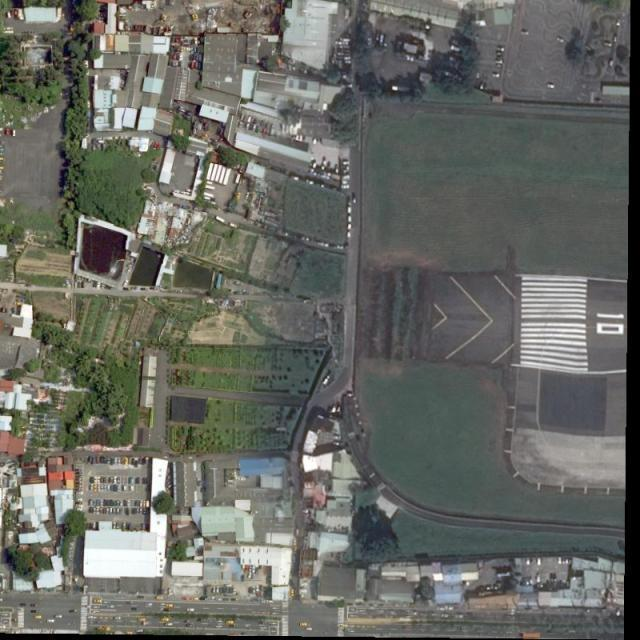vehicle: (523, 632, 540, 638), (556, 36, 565, 43), (127, 267, 134, 274), (546, 83, 554, 89), (603, 42, 612, 47), (613, 34, 618, 43), (124, 280, 130, 287), (236, 192, 241, 200), (6, 10, 11, 18), (290, 589, 294, 597), (520, 32, 528, 36), (495, 60, 503, 64), (617, 18, 621, 26), (107, 605, 115, 609), (4, 27, 14, 30), (293, 538, 297, 545), (165, 622, 172, 626), (114, 484, 118, 491), (610, 59, 614, 66), (497, 48, 504, 52), (131, 606, 138, 610), (130, 477, 134, 484), (70, 609, 77, 613), (55, 614, 62, 618), (4, 30, 13, 33), (94, 599, 100, 603), (166, 604, 174, 607), (14, 302, 22, 305), (137, 508, 141, 514), (110, 484, 114, 490), (493, 74, 499, 78), (186, 624, 194, 627), (146, 602, 152, 606), (260, 621, 266, 625), (106, 508, 110, 514), (89, 508, 93, 514), (93, 508, 97, 514), (76, 498, 82, 502), (34, 616, 41, 619), (138, 618, 145, 621), (187, 609, 194, 612), (300, 623, 307, 626), (162, 618, 169, 621), (91, 476, 94, 483), (76, 475, 83, 478), (111, 458, 114, 465), (108, 458, 111, 465), (180, 54, 183, 61), (87, 616, 94, 619), (137, 630, 144, 633), (138, 596, 145, 599), (32, 610, 39, 613), (100, 499, 103, 506), (117, 499, 120, 506), (76, 492, 83, 495), (238, 477, 245, 480), (94, 485, 98, 490), (90, 485, 94, 490), (101, 485, 105, 490), (110, 477, 114, 482), (6, 129, 9, 135), (114, 477, 117, 483), (104, 484, 107, 490), (126, 508, 129, 514), (76, 478, 82, 481), (115, 457, 118, 463), (181, 46, 184, 52), (191, 62, 194, 68), (110, 508, 113, 514), (118, 486, 121, 492), (124, 486, 127, 492), (90, 499, 93, 505), (97, 500, 100, 506), (104, 500, 107, 506), (107, 500, 110, 506), (110, 499, 113, 505), (121, 500, 124, 506), (124, 500, 127, 506), (128, 500, 131, 506), (97, 508, 100, 514), (100, 508, 103, 514), (76, 508, 82, 511), (76, 502, 82, 505), (213, 587, 216, 593), (242, 575, 245, 581), (249, 566, 252, 572), (126, 631, 132, 634), (47, 620, 55, 622), (339, 625, 347, 627), (156, 597, 164, 599), (98, 485, 101, 490), (118, 458, 121, 463), (125, 287, 130, 290), (131, 486, 134, 491), (137, 478, 140, 483), (103, 509, 106, 514), (249, 573, 252, 578), (13, 129, 15, 136), (227, 621, 234, 623), (141, 507, 143, 514), (144, 507, 146, 514), (75, 472, 82, 474), (192, 598, 199, 600), (254, 586, 256, 593), (147, 501, 149, 507), (98, 477, 100, 483), (126, 459, 128, 465), (134, 508, 136, 514), (76, 469, 82, 471), (76, 482, 82, 484), (31, 604, 37, 606), (94, 500, 96, 506), (114, 499, 116, 505), (217, 587, 219, 593), (76, 505, 82, 507), (250, 586, 252, 592), (115, 617, 121, 619), (141, 501, 143, 506), (95, 478, 97, 483), (117, 509, 119, 514), (114, 508, 116, 513), (102, 477, 104, 482), (257, 586, 259, 591), (253, 568, 255, 573), (144, 478, 146, 482), (182, 598, 190, 599), (76, 486, 82, 487), (76, 489, 82, 490), (105, 477, 106, 482), (1, 598, 2, 601)
